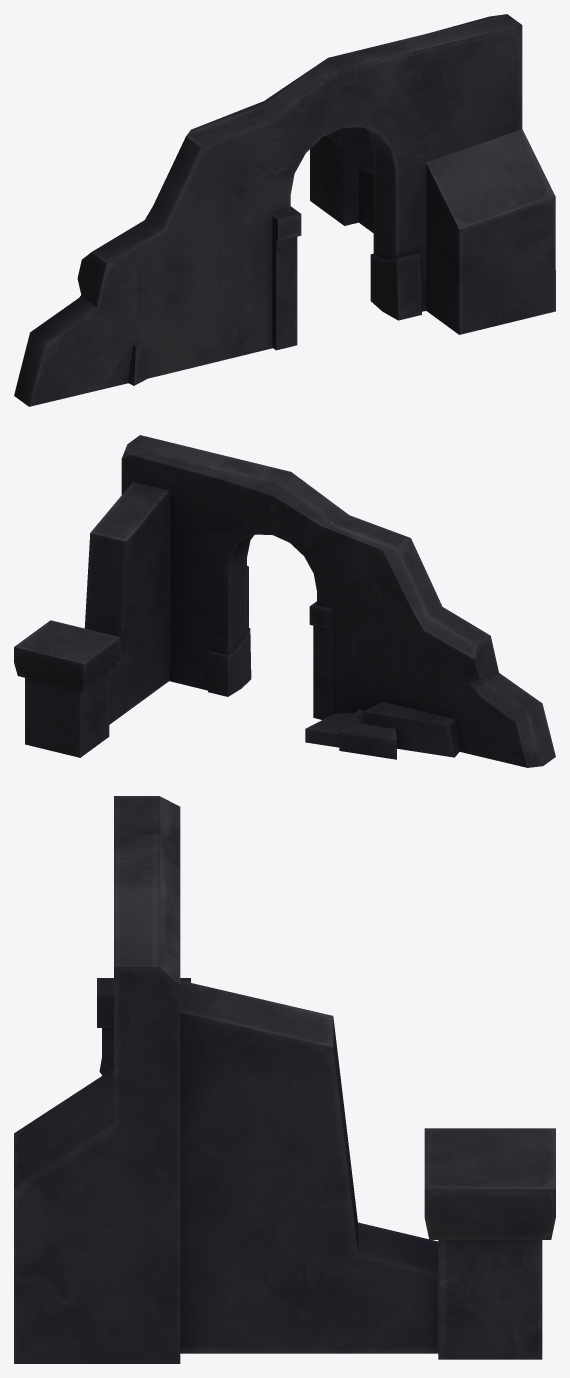
File: Ruins5.FBX
3 views of the same model, one above another, from view 1: azimuth 30°, elevation 25°; view 2: azimuth 150°, elevation 25°; view 3: azimuth 270°, elevation 25° (orthographic). The views are drawn at different scales.
Parts seen in each view (by area): view 1: Ruins5; view 2: Ruins5; view 3: Ruins5.
Part boxes in pixels (x1,y1,x2,y2): Ruins5: (14,14,555,406); Ruins5: (14,435,555,767); Ruins5: (14,796,555,1363).
Size of the model in its own units: 2233 by 1127 by 1395.
1 material, 1 textured.
